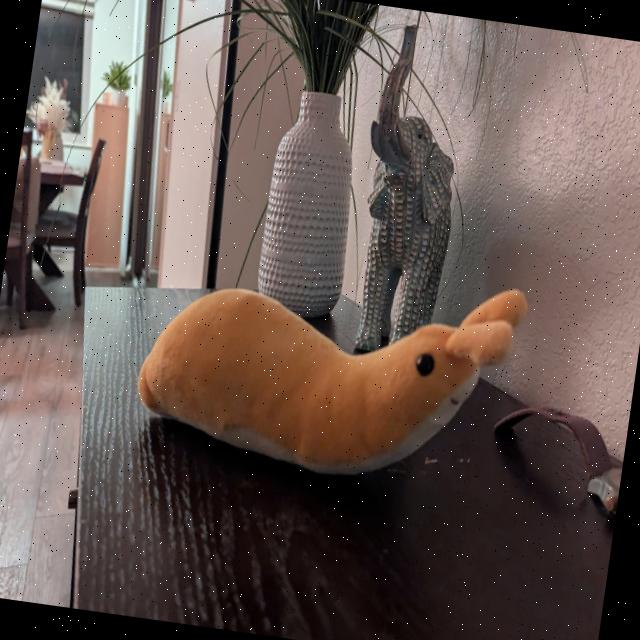banana-slug-toy: (125, 213, 539, 508)
